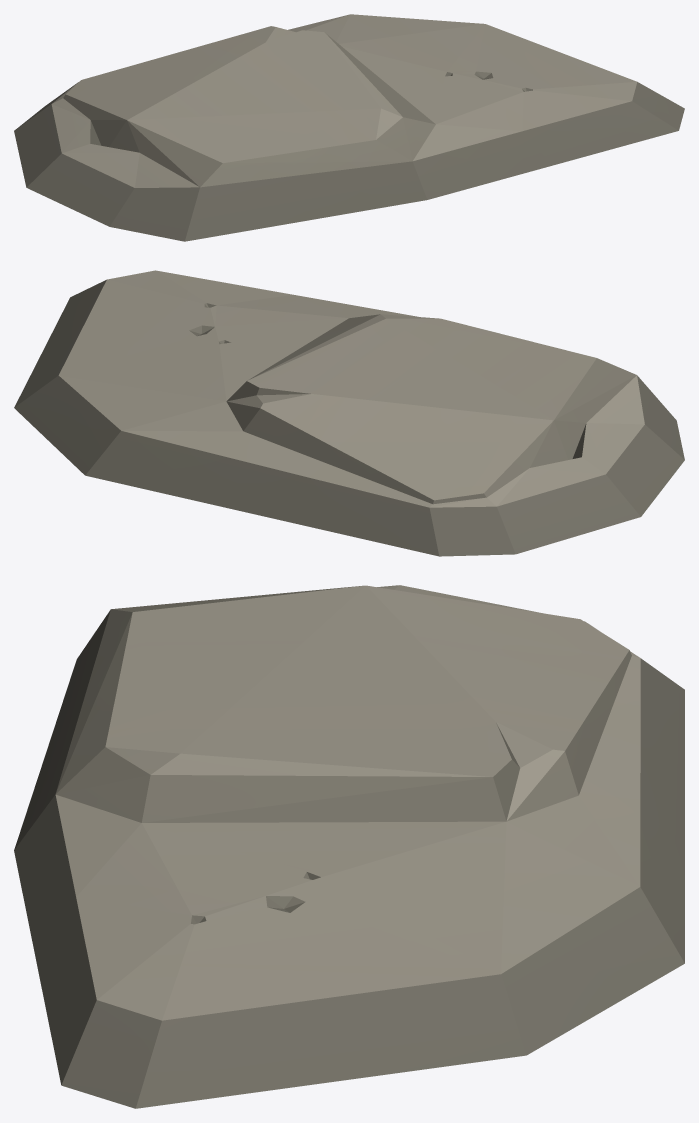
File: Rock_Slab_1A.fbx
3 views of the same model, one above another, from view 1: azimuth 30°, elevation 25°; view 2: azimuth 150°, elevation 25°; view 3: azimuth 270°, elevation 25° (orthographic). The views are drawn at different scales.
Parts seen in each view (by area): view 1: Rock_Slab_1A; view 2: Rock_Slab_1A; view 3: Rock_Slab_1A.
Boxes of the visible parts, bbox=[...] form: Rock_Slab_1A: bbox=[14, 14, 684, 241]; Rock_Slab_1A: bbox=[14, 270, 684, 556]; Rock_Slab_1A: bbox=[14, 585, 684, 1108].
Bounding box in the file's own units: 5.79 × 0.645 × 3.32.
